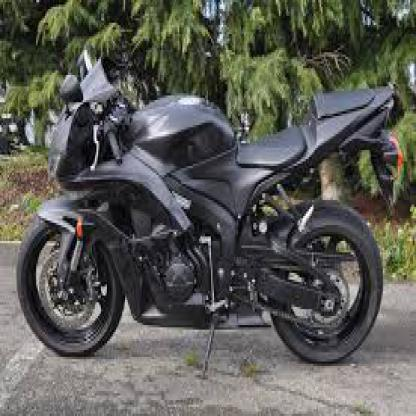Motorcycle: (7, 55, 396, 372)
